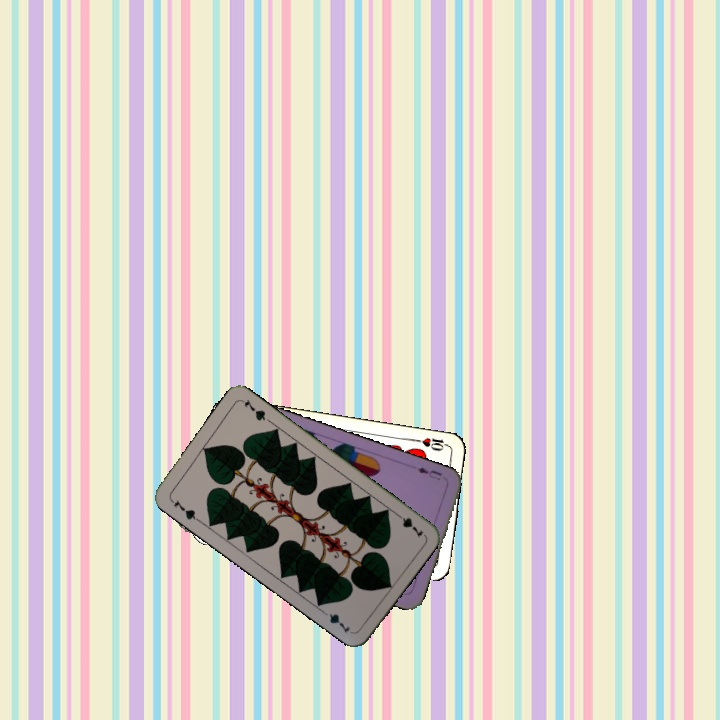EU: (413, 463, 444, 483)
G7: (391, 508, 427, 540), (167, 495, 202, 524)
H10: (411, 433, 452, 454)
